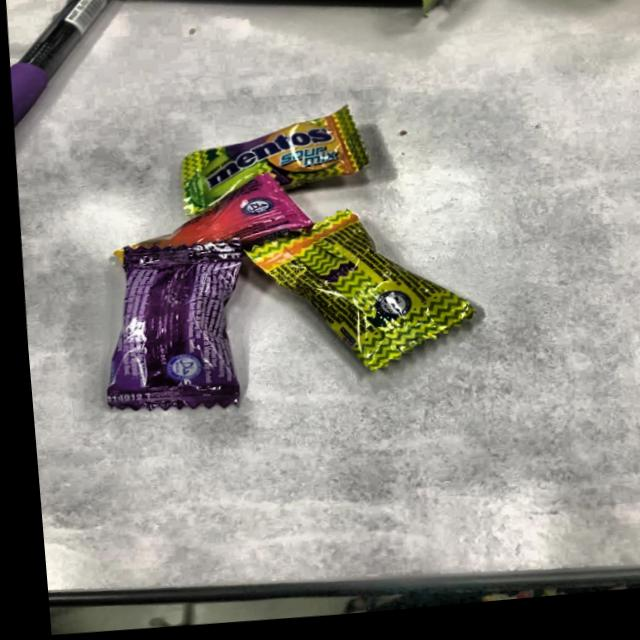Plastic: (244, 218, 472, 373), (111, 242, 243, 416), (173, 125, 374, 205), (126, 176, 301, 250)
